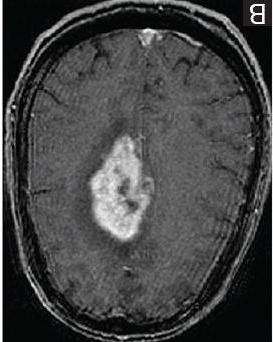Tumor: (86, 128, 159, 256), (129, 25, 161, 48)
